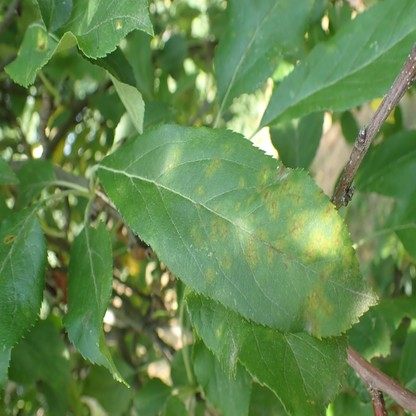powdery_mildew: (347, 282, 375, 320), (229, 343, 238, 365)
scab: (303, 221, 360, 277), (304, 286, 332, 334), (245, 231, 266, 269), (286, 209, 310, 237), (165, 143, 182, 182), (280, 181, 303, 204), (208, 217, 228, 243), (267, 237, 283, 267), (261, 190, 278, 217), (318, 202, 336, 224), (187, 224, 203, 248), (317, 263, 337, 280), (204, 159, 220, 180), (256, 166, 269, 191), (35, 29, 48, 51), (218, 247, 231, 268), (280, 252, 293, 273), (275, 164, 286, 179), (221, 142, 233, 155), (204, 269, 214, 283), (216, 324, 224, 341), (314, 189, 324, 202), (246, 194, 254, 208), (196, 184, 206, 195), (237, 175, 245, 188), (234, 200, 240, 211)
